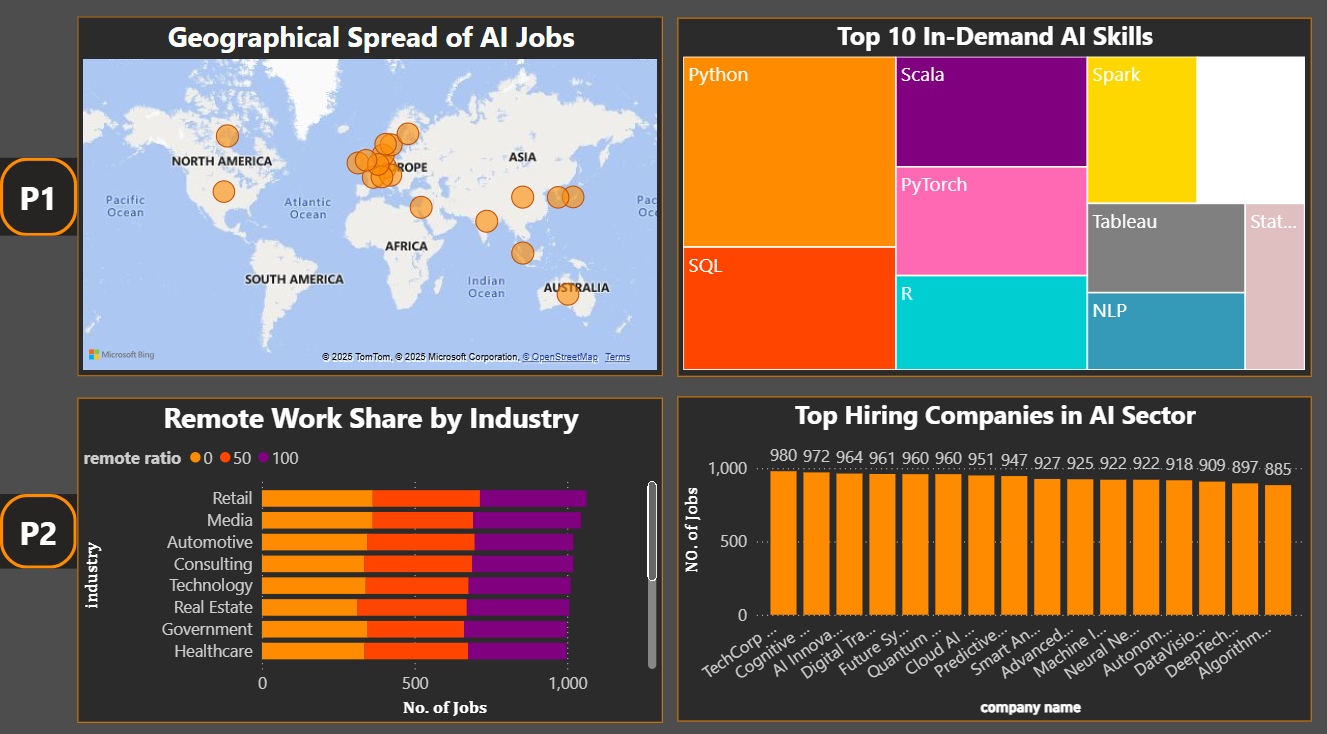

This screenshot's page, from the dashboard's own definition file:
{"tool":"powerbi","page":{"name":"Company and Remote Trends","canvas":[1280,720],"ordinal":2},"visuals":[{"type":"map","title":"Geographical Spread of AI Jobs","fields":{"Category":["AI jobs.company location"],"Size":["CountNonNull(AI jobs.job id)"]},"box":[74.3,22.3,565,347],"z":0},{"type":"barChart","title":"Remote Work Share by Industry ","fields":{"Category":["AI jobs.industry"],"Series":["AI jobs.remote ratio"],"Y":["CountNonNull(AI jobs.job id)"]},"box":[74.3,389.1,565,313.5],"z":1000},{"type":"clusteredColumnChart","title":"Top Hiring Companies in AI Sector","fields":{"Category":["AI jobs.company name"],"Y":["CountNonNull(AI jobs.job id)"]},"box":[653.9,388.5,611.7,313.7],"z":1001},{"type":"treemap","title":"\tTop 10 In-Demand AI Skills","fields":{"Values":["CountNonNull(job_skills.required skills.1)"],"Group":["job_skills.required skills.1"]},"box":[653.9,22.9,611.7,346.2],"z":1002},{"type":"actionButton","box":[0,158.6,74.3,75.6],"z":1003},{"type":"actionButton","box":[0,483,74,72],"z":1004}]}

Visuals, with their boxes in screenshot pixels (x1, y1, x2, y2), scaled from the page's 1280x720 canvas onto the 1327x734 screenshot:
"Geographical Spread of AI Jobs" map: x1=77 y1=23 x2=663 y2=376
"Remote Work Share by Industry " barChart: x1=77 y1=397 x2=663 y2=716
"Top Hiring Companies in AI Sector" clusteredColumnChart: x1=678 y1=396 x2=1312 y2=716
"	Top 10 In-Demand AI Skills" treemap: x1=678 y1=23 x2=1312 y2=376
actionButton: x1=0 y1=162 x2=77 y2=239
actionButton: x1=0 y1=492 x2=77 y2=566
